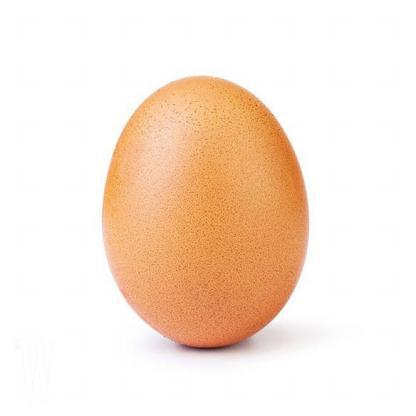egg: (106, 72, 322, 356)
